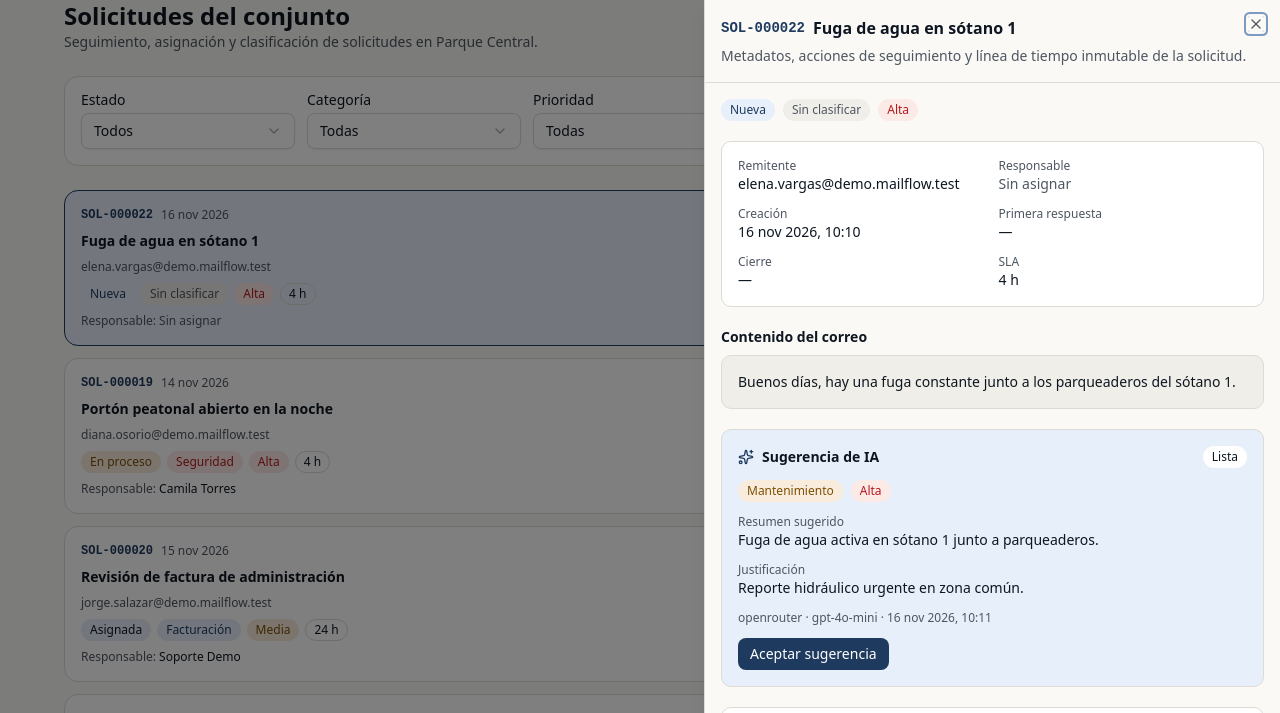
Test case: SolicitudesPage · acciones T2, T3, T4, T7→T4, 409 e invalidaciones › conflicto 409 en mutación muestra AvisoConflicto con Recargar que refresca versión y detalle
Expected: the text "SOL-000022" is shown, [721, 18, 805, 38]
Click the button "Aceptar sugerencia" at (813, 654), box [738, 638, 889, 670]
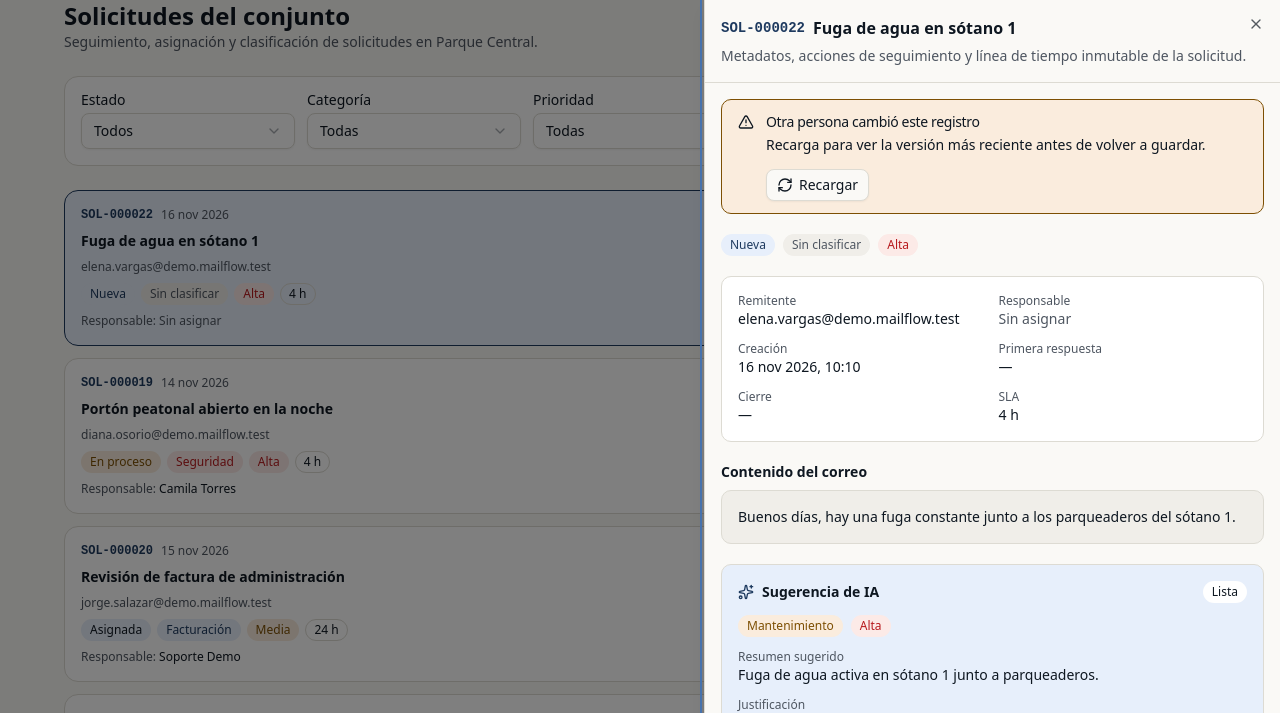
Now the text "Otra persona cambió este registro" is shown, box [766, 112, 980, 131]
Click the button "Recargar" at (818, 185), box [766, 169, 869, 201]
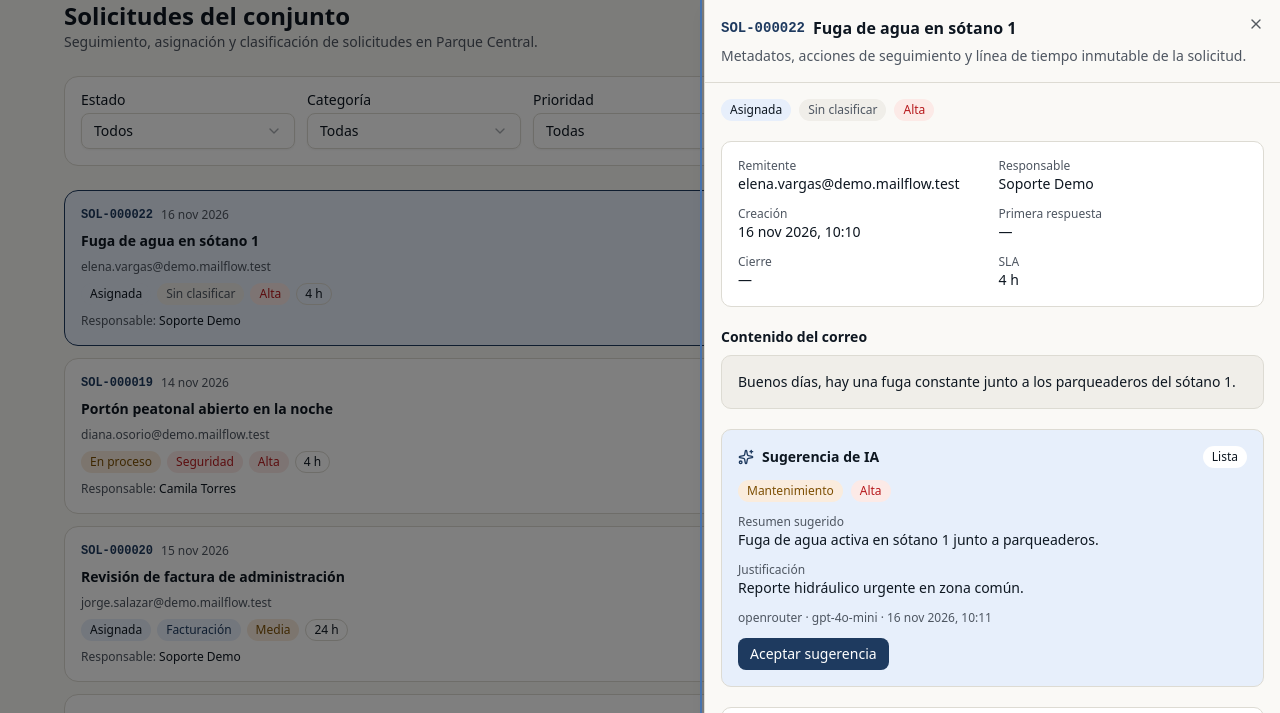
Now the text "Otra persona cambió este registro" is gone
// Ahora al volver a pulsar Aceptar sugerencia envía la nueva versionEsperada: 2
Click the button "Aceptar sugerencia" at (813, 654), box [738, 638, 889, 670]
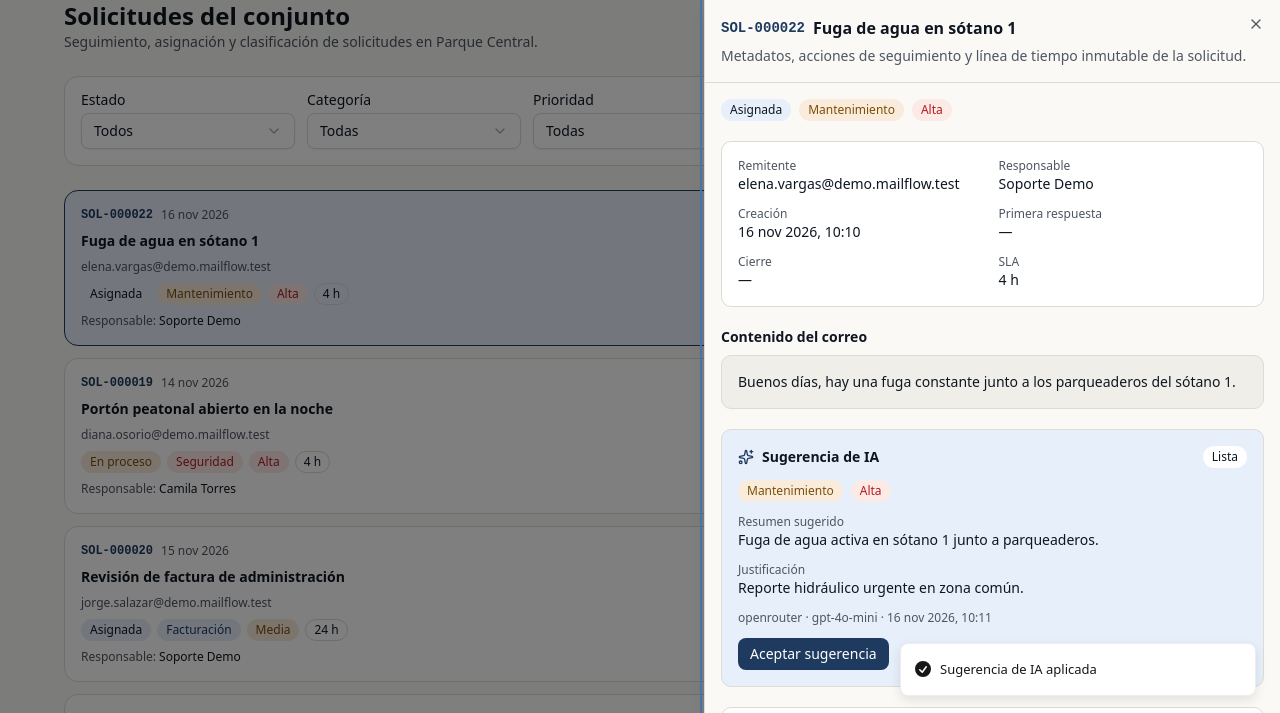
Now the text "Sugerencia de IA aplicada" is shown, box [940, 660, 1097, 679]
